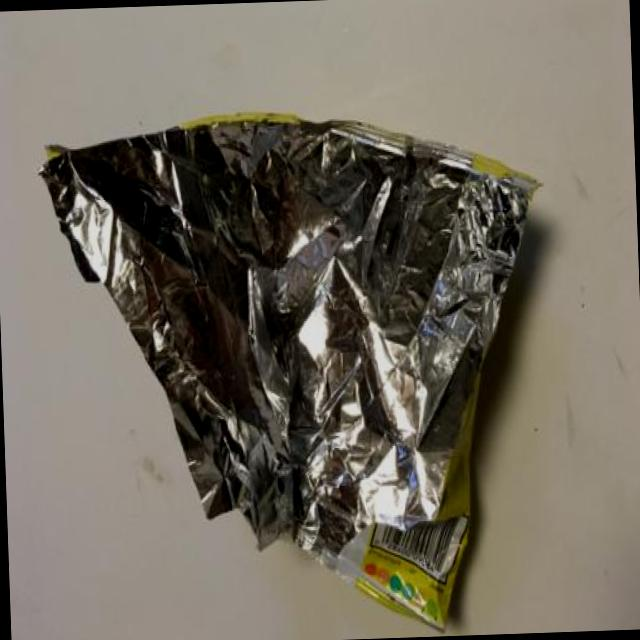nhom: (39, 114, 538, 633)
